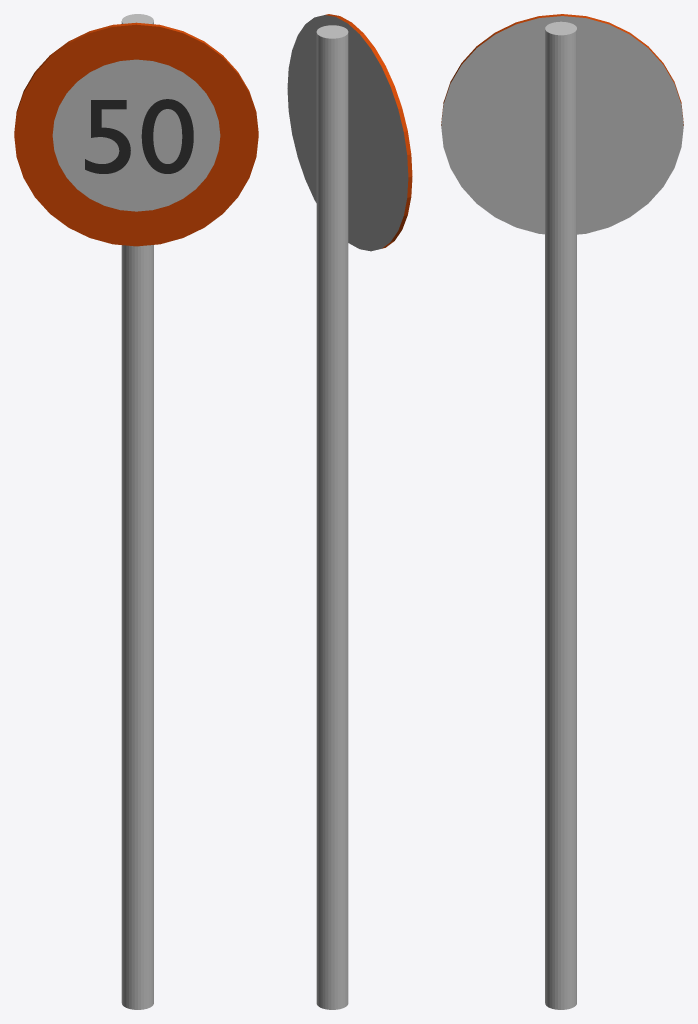
The model's file is Speed Limit 50.fbx.
3 views of the same model, side by side, from view 1: azimuth 90°, elevation 25°; view 2: azimuth 210°, elevation 25°; view 3: azimuth 270°, elevation 25° (orthographic).
Visible parts, largest first — view 1: Text; view 2: Text; view 3: Text.
Boxes of the visible parts, x1,y1,x2,y2 form: Text: [14, 14, 258, 1009]; Text: [287, 14, 412, 1009]; Text: [441, 14, 683, 1009].
Bounding box in the file's own units: 244 × 6762 × 1518.
